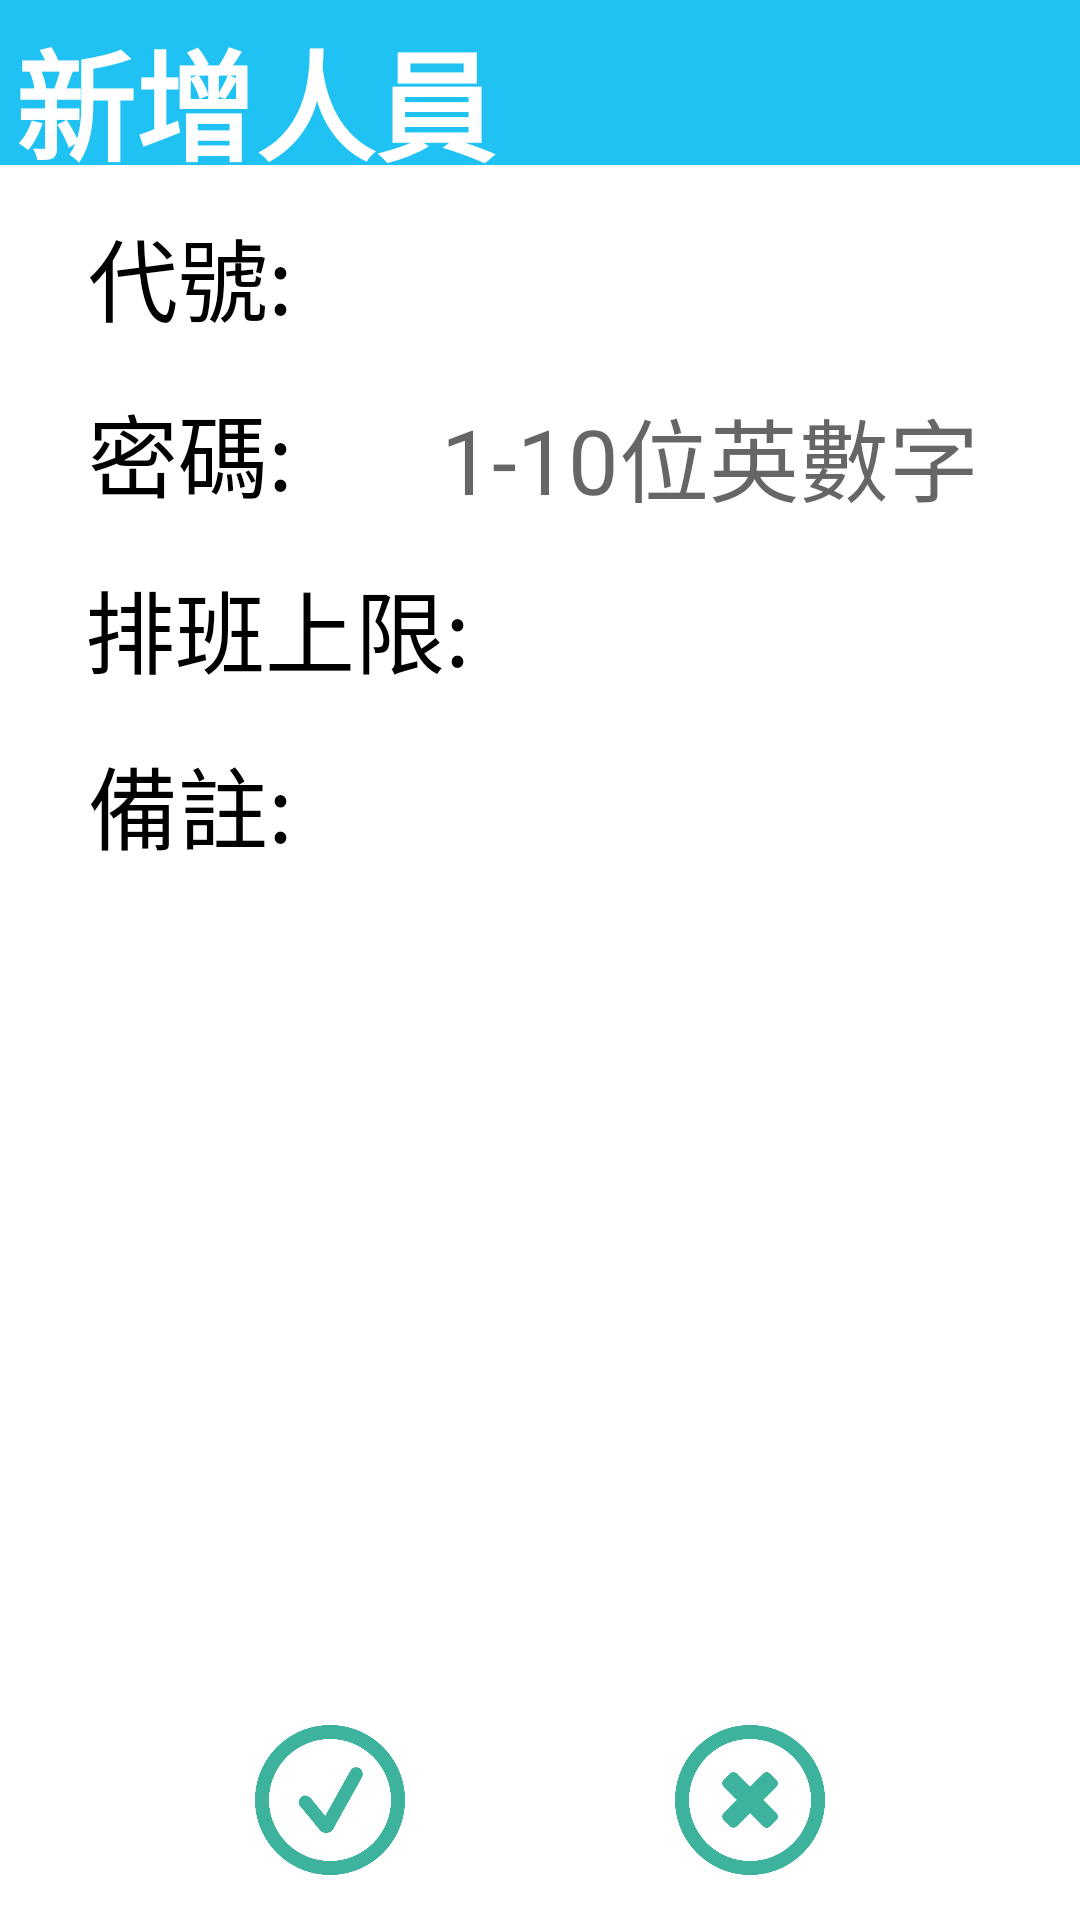

Named icons in this screenshot (1080x1920) and their bounding boxes, region(x1, y1, x2, y2):
checked: region(255, 1725, 405, 1875)
multiply: region(675, 1725, 825, 1875)
